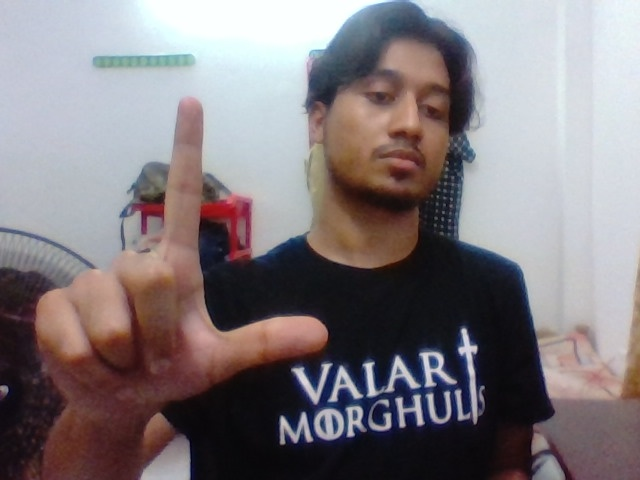L: (75, 85, 355, 388)
